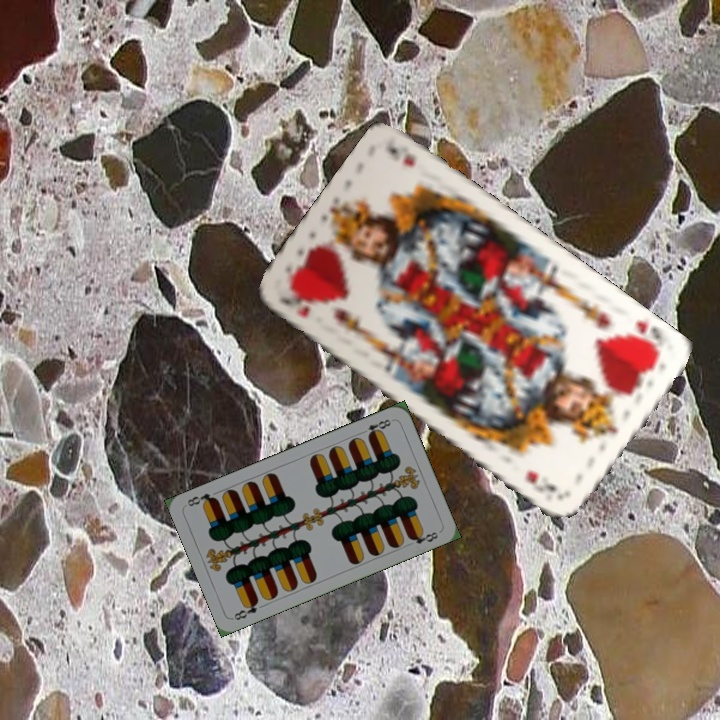E8: (356, 415, 393, 440), (230, 596, 261, 623)
HK: (623, 315, 666, 359), (276, 295, 313, 321)
